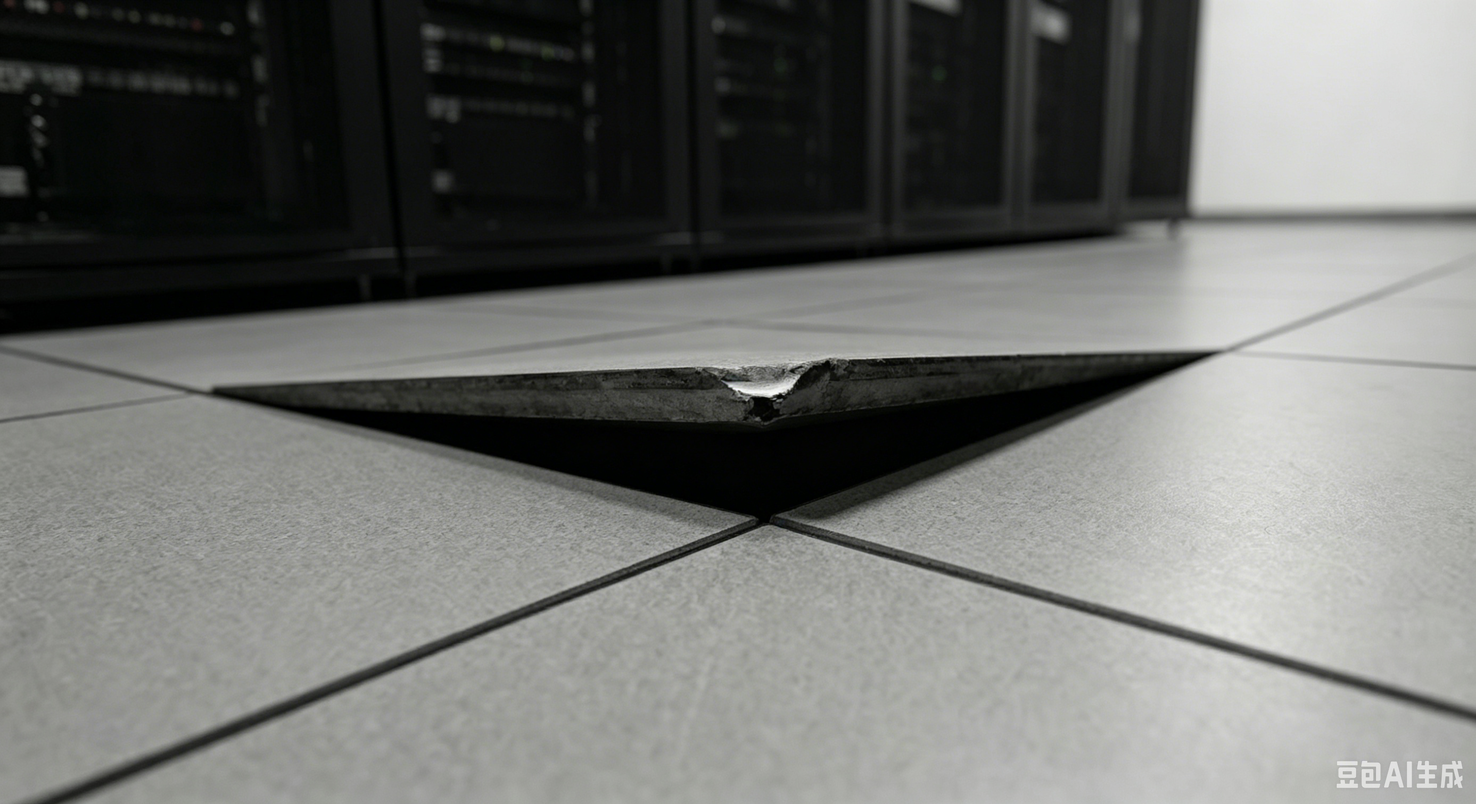floor_defect: (206, 338, 1232, 529)
